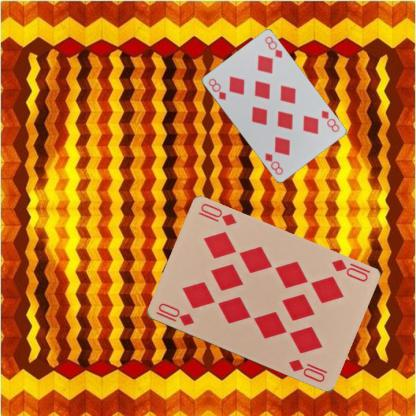10d: (153, 300, 195, 328), (328, 256, 368, 284)
8d: (318, 108, 340, 134), (206, 76, 227, 102)
